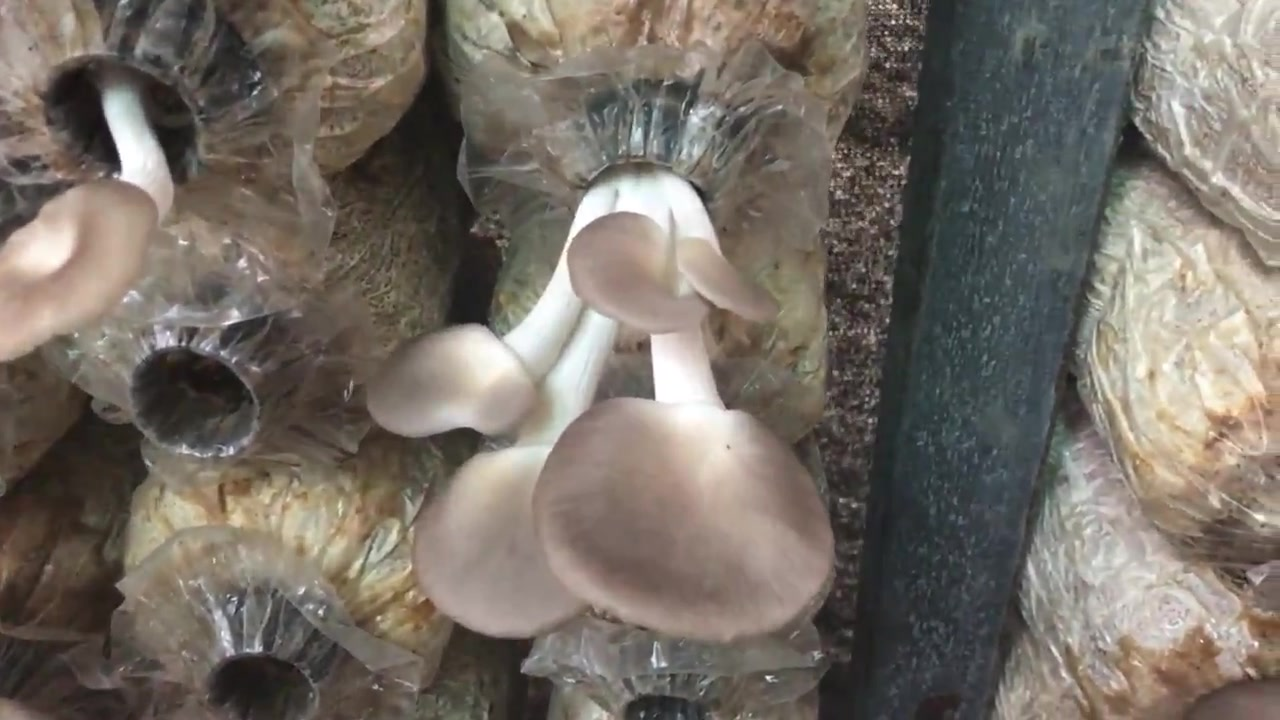nam: (377, 107, 835, 635), (1, 9, 205, 357)
